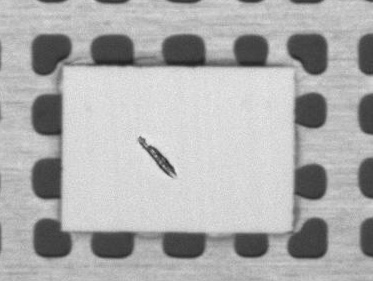DIE_INK: (136, 133, 176, 178)
